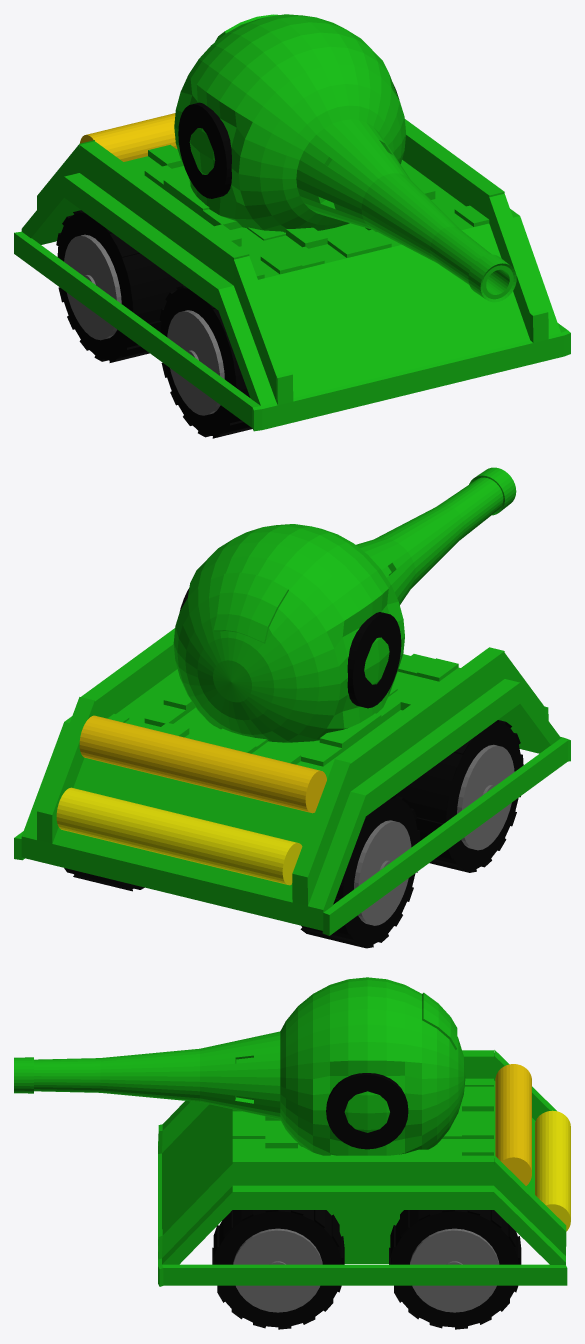
The model's file is tanquesitoRuedas.fbx.
The picture shows the model from 3 angles, top to bottom: view 1: azimuth 30°, elevation 25°; view 2: azimuth 150°, elevation 25°; view 3: azimuth 270°, elevation 25°; orthographic projection. The views are drawn at different scales.
Parts seen in each view (by area): view 1: Cubo, Esfera, Cilindro.006, Cilindro.005, Cilindro, Cilindro.004, Cilindro.017, Cilindro.002; view 2: Cubo, Esfera, Cilindro.002, Cilindro.003, Cilindro.005, Cilindro.006, Cilindro, Cilindro.004, Cilindro.017; view 3: Cubo, Esfera, Cilindro.010, Cilindro.007, Cilindro.008, Cilindro.009, Cilindro.002, Cilindro.001, Cilindro.003.
Part boxes in pixels (left/top/right/bottom): Cubo: left=14, top=119, right=570, bottom=431; Esfera: left=174, top=14, right=516, bottom=302; Cilindro.006: left=56, top=210, right=183, bottom=362; Cilindro.005: left=159, top=285, right=252, bottom=438; Cilindro: left=178, top=102, right=231, bottom=198; Cilindro.004: left=64, top=234, right=121, bottom=340; Cilindro.017: left=167, top=310, right=224, bottom=415; Cilindro.002: left=80, top=113, right=177, bottom=161; Cubo: left=14, top=628, right=570, bottom=935; Esfera: left=173, top=467, right=516, bottom=742; Cilindro.002: left=79, top=715, right=326, bottom=813; Cilindro.003: left=56, top=787, right=302, bottom=885; Cilindro.005: left=395, top=720, right=523, bottom=872; Cilindro.006: left=300, top=795, right=420, bottom=948; Cilindro: left=347, top=612, right=401, bottom=708; Cilindro.004: left=354, top=820, right=411, bottom=925; Cilindro.017: left=457, top=744, right=514, bottom=850; Cubo: left=158, top=1050, right=567, bottom=1286; Esfera: left=14, top=977, right=465, bottom=1155; Cilindro.010: left=212, top=1210, right=344, bottom=1329; Cilindro.007: left=389, top=1210, right=521, bottom=1329; Cilindro.008: left=410, top=1228, right=499, bottom=1312; Cilindro.009: left=233, top=1228, right=322, bottom=1312; Cilindro.002: left=495, top=1064, right=531, bottom=1185; Cilindro.001: left=326, top=1073, right=408, bottom=1149; Cilindro.003: left=535, top=1110, right=570, bottom=1231.
Bounding box in the file's own units: 94.68 × 95.68 × 170.
